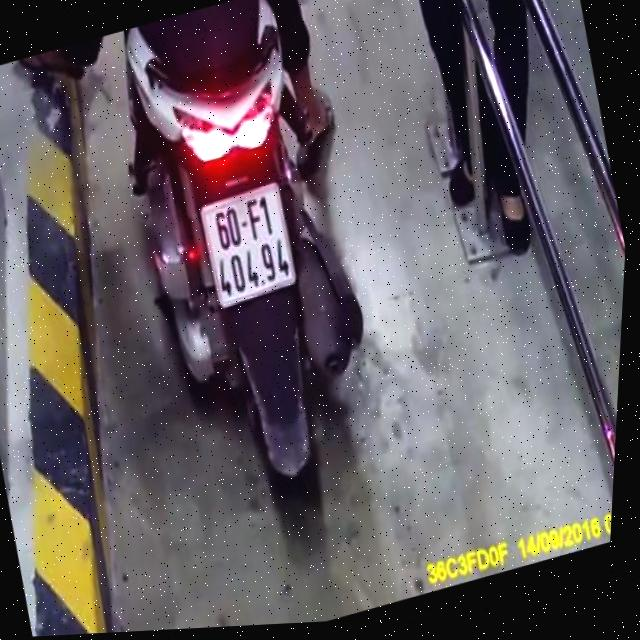motorcycle: (66, 0, 439, 557)
plate: (184, 175, 310, 313)
